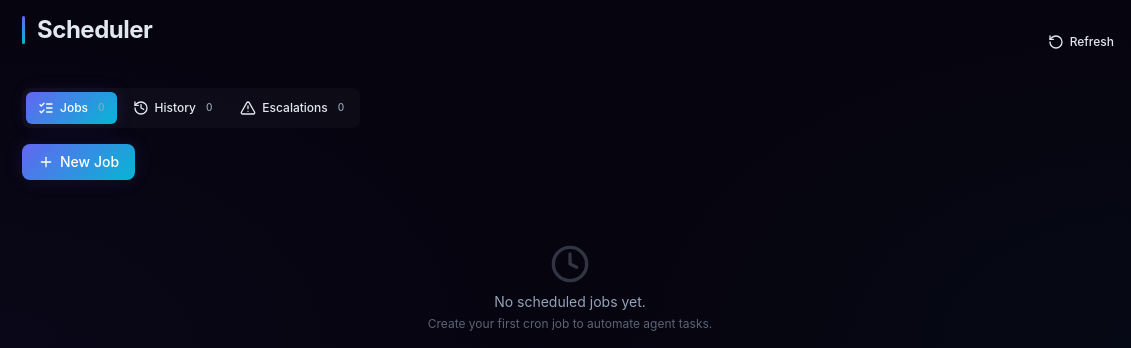
Test: Scheduler Page › navigates to History tab
Click the button "History 0" at {"x": 172, "y": 108}, box [120, 92, 224, 124]
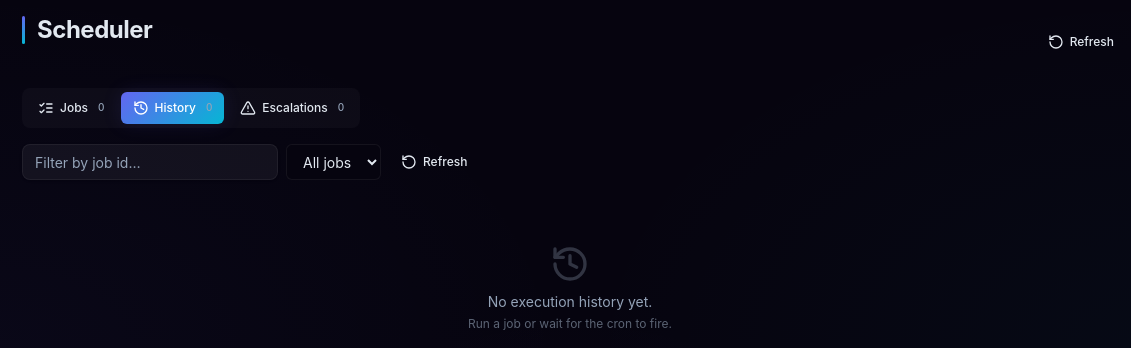
Expected: the text "No execution history yet." is shown, [488, 293, 652, 310]
